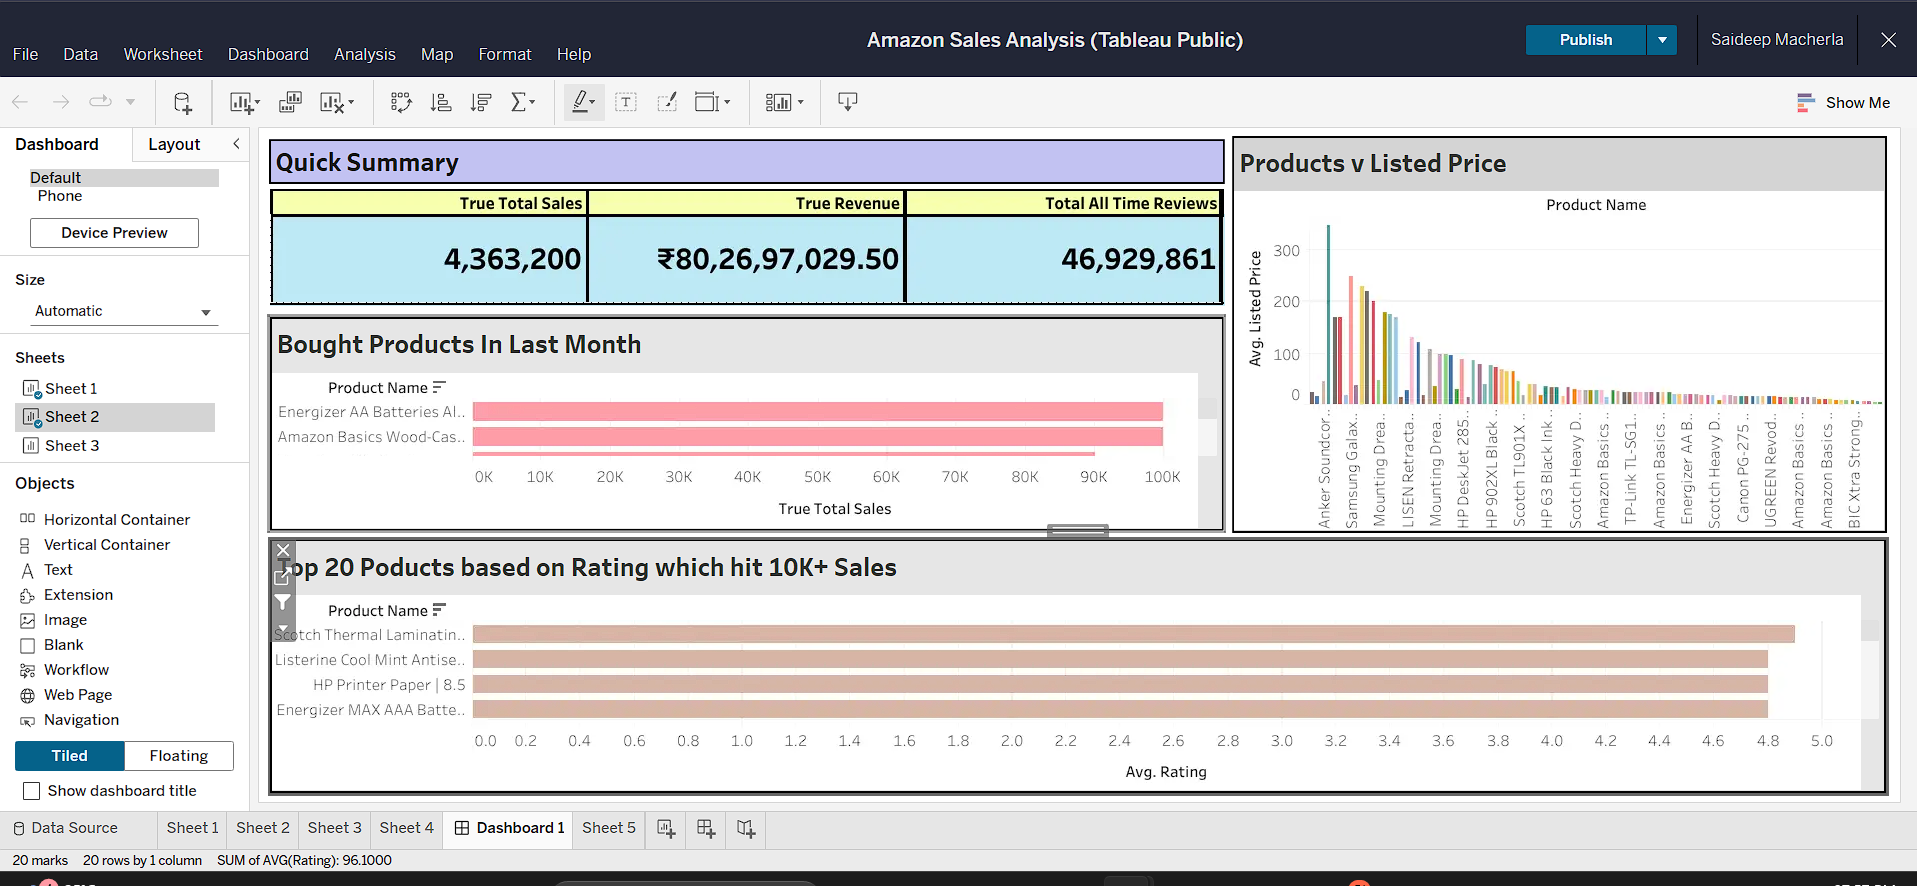

The dashboard page shown, as its layout file describes it:
{"tool":"tableau","page":{"name":"Dashboard 1","canvas":[1000,1000],"units":"permille","ordinal":0},"visuals":[{"type":"worksheet","title":"Sheet 4","mark":"Automatic","rows":["listed_price"],"cols":["Cleaned Title"],"box":[593,10.6,399.2,591.1]},{"type":"worksheet","title":"Sheet 5","mark":"Automatic","box":[6.1,16.7,582.6,246.8]},{"type":"worksheet","title":"Sheet 1","mark":"Bar","rows":["Cleaned Title"],"cols":["Calculation_0496706272567300"],"box":[6.9,280.2,581.1,317.2]},{"type":"filter","title":"Sheet 2","param":"[federated.1568vqw0vvdykz11fz6u30wcc14z].[none:bought_in_last_month:qk]","box":[856.1,608.5,135.6,376.6]},{"type":"worksheet","title":"Sheet 2","mark":"Automatic","rows":["Cleaned Title"],"cols":["rating"],"box":[6.9,610.4,844.6,376.6]}]}

Visuals, with their boxes on the dashboard's canvas, which has no fixed pixel size, in thousandths of its width and height (x1, y1, x2, y2). These are canvas units, not pixel positions in the 1917x886 screenshot, which may show the page scaled, cropped or inside an application window:
"Sheet 4" worksheet: Rect(593, 11, 992, 602)
"Sheet 5" worksheet: Rect(6, 17, 589, 264)
"Sheet 1" worksheet (Bar marks): Rect(7, 280, 588, 597)
"Sheet 2" filter: Rect(856, 608, 992, 985)
"Sheet 2" worksheet: Rect(7, 610, 852, 987)
